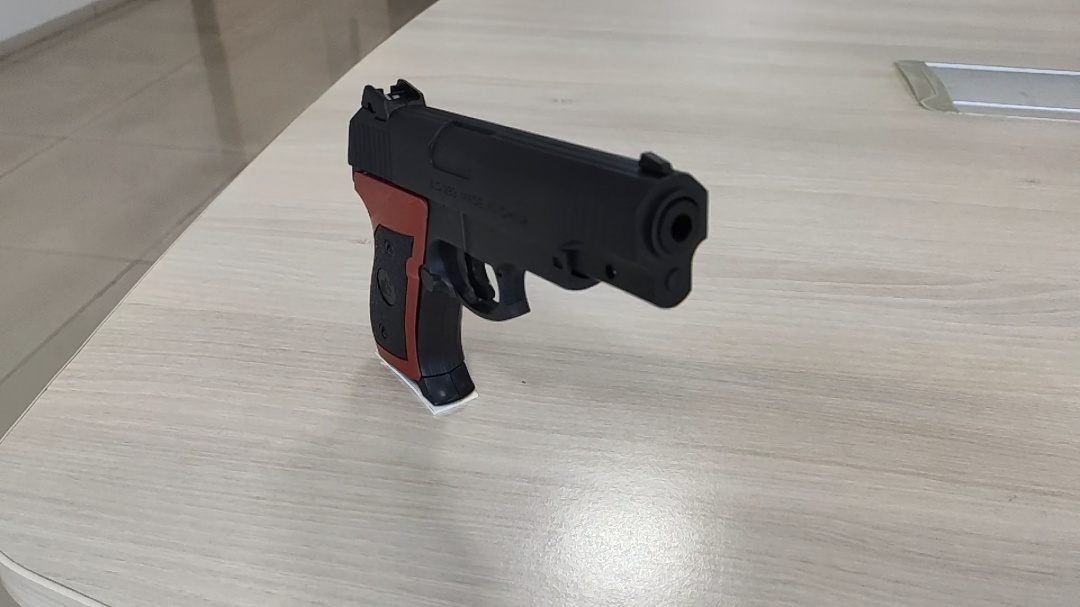gun: (584, 255, 618, 298)
